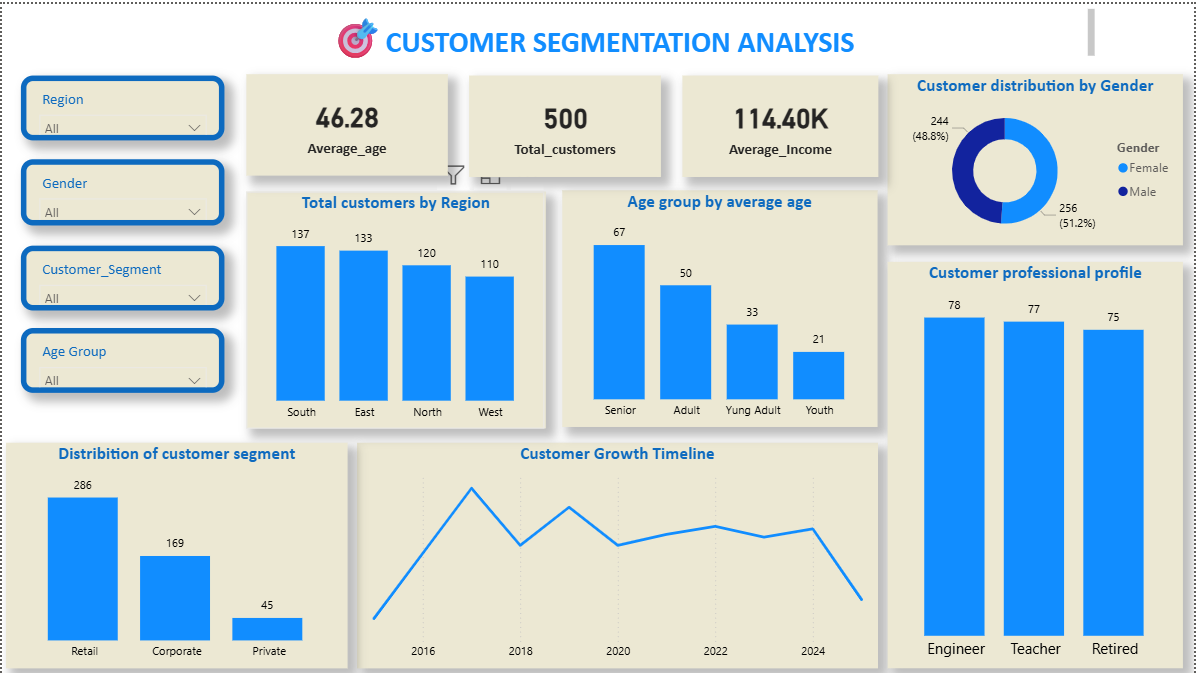

This screenshot's page, from the dashboard's own definition file:
{"tool":"powerbi","page":{"name":"Page 1","canvas":[1280,720],"ordinal":0},"visuals":[{"type":"lineChart","title":"Customer Growth Timeline","fields":{"Category":["Brain_Dataset.Year"],"Y":["#Measure_Table.Total_customers"]},"box":[381.2,471,559.4,242],"z":0},{"type":"columnChart","title":"Total customers by Region","fields":{"Category":["Brain_Dataset.Region"],"Y":["#Measure_Table.Total_customers"]},"box":[262,201.2,321.3,254.2],"z":1000},{"type":"columnChart","title":"Age group by average age","fields":{"Category":["Brain_Dataset.Age Group"],"Y":["#Measure_Table.Average_age"]},"box":[602,199.6,338.4,254.2],"z":2000},{"type":"donutChart","title":"Customer distribution by Gender","fields":{"Category":["Brain_Dataset.Gender"],"Y":["#Measure_Table.Total_customers"]},"box":[950.7,75.4,317.4,184.1],"z":3000},{"type":"columnChart","title":"Distribition of customer segment","fields":{"Y":["#Measure_Table.Total_customers"],"Category":["Dim_Segment.Customer_Segment"]},"box":[4.3,471,366.7,242],"z":4000},{"type":"columnChart","title":"Customer professional profile","fields":{"Category":["Brain_Dataset.Occupation"],"Y":["#Measure_Table.Total_customers"]},"box":[950.7,276.8,317.4,436.2],"z":5000},{"type":"card","title":"Customer distribution by Gender","fields":{"Values":["#Measure_Table.Total_customers"]},"box":[501.4,76.8,205.8,108.7],"z":6000},{"type":"card","title":"Customer distribution by Gender","fields":{"Values":["#Measure_Table.Average_Income"]},"box":[730.4,76.8,210.1,108.7],"z":7000},{"type":"card","title":"Customer distribution by Gender","fields":{"Values":["#Measure_Table.Average_age"]},"box":[262.3,75.4,215.9,108.7],"z":8000},{"type":"slicer","fields":{"Values":["Brain_Dataset.Region"]},"box":[20.3,76.8,218.8,69.6],"z":9000},{"type":"slicer","fields":{"Values":["Brain_Dataset.Gender"]},"box":[20.3,166.7,218.8,71],"z":10000},{"type":"slicer","fields":{"Values":["Brain_Dataset.Customer_Segment"]},"box":[20.3,259.4,218.8,69.6],"z":11000},{"type":"slicer","fields":{"Values":["Brain_Dataset.Age Group"]},"box":[20.3,347.8,218.8,69.6],"z":12000},{"type":"textbox","box":[347.8,0,830.4,63.8],"z":13000}]}

Visuals, with their boxes in screenshot pixels (x1, y1, x2, y2), scaled from the page's 1280x720 canvas onto the 1197x673 screenshot:
"Customer Growth Timeline" lineChart: Rect(356, 440, 880, 666)
"Total customers by Region" columnChart: Rect(245, 188, 545, 426)
"Age group by average age" columnChart: Rect(563, 187, 879, 424)
"Customer distribution by Gender" donutChart: Rect(889, 70, 1186, 243)
"Distribition of customer segment" columnChart: Rect(4, 440, 347, 666)
"Customer professional profile" columnChart: Rect(889, 259, 1186, 666)
"Customer distribution by Gender" card: Rect(469, 72, 661, 173)
"Customer distribution by Gender" card: Rect(683, 72, 880, 173)
"Customer distribution by Gender" card: Rect(245, 70, 447, 172)
slicer - Brain_Dataset.Region: Rect(19, 72, 224, 137)
slicer - Brain_Dataset.Gender: Rect(19, 156, 224, 222)
slicer - Brain_Dataset.Customer_Segment: Rect(19, 242, 224, 308)
slicer - Brain_Dataset.Age Group: Rect(19, 325, 224, 390)
textbox: Rect(325, 0, 1102, 60)
